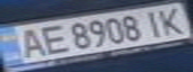0: (103, 15, 127, 45)
8: (118, 11, 148, 43), (66, 19, 90, 51)
9: (87, 17, 109, 48)
A: (9, 25, 51, 60)
E: (33, 21, 72, 55)
I: (139, 7, 169, 38)
K: (151, 3, 193, 35)
